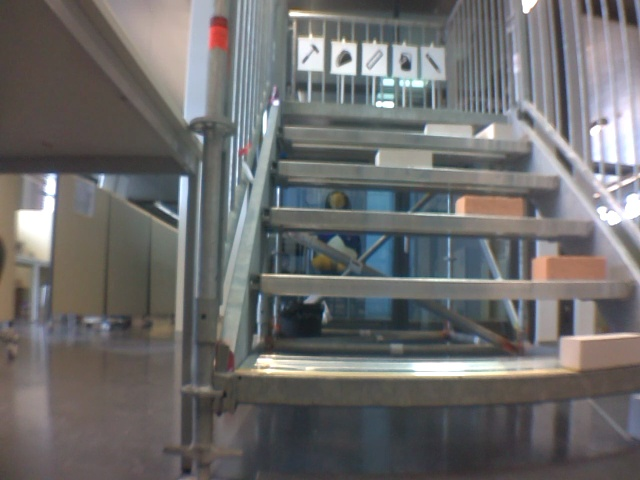brick: (560, 332, 640, 370), (533, 255, 606, 280), (457, 195, 523, 216), (374, 149, 431, 168), (476, 123, 514, 139), (425, 124, 471, 136)
bucket: (396, 48, 416, 75)
edge: (233, 368, 640, 404), (261, 207, 599, 235), (250, 275, 633, 298), (271, 162, 560, 188), (277, 126, 532, 151), (278, 102, 508, 123)
hammer: (300, 41, 323, 67)
pencil: (423, 51, 443, 77)
ruler: (363, 46, 385, 72)
stairs: (195, 4, 640, 449)
steps: (229, 99, 640, 418)
taco: (335, 50, 352, 69)
